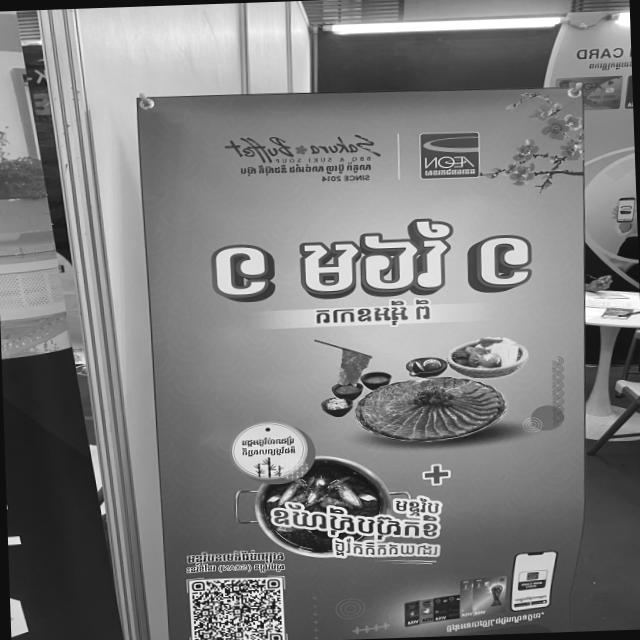1: (307, 296, 438, 332)
2: (199, 203, 542, 304)
4: (238, 161, 372, 179)
650: (316, 173, 345, 184)
Yolov11_80vkh: (257, 498, 443, 542), (331, 534, 442, 560), (444, 610, 542, 634), (185, 549, 289, 567), (388, 494, 444, 517), (239, 444, 300, 458), (239, 435, 297, 447), (421, 167, 476, 178), (586, 59, 630, 72), (182, 562, 218, 575), (252, 560, 287, 573)
